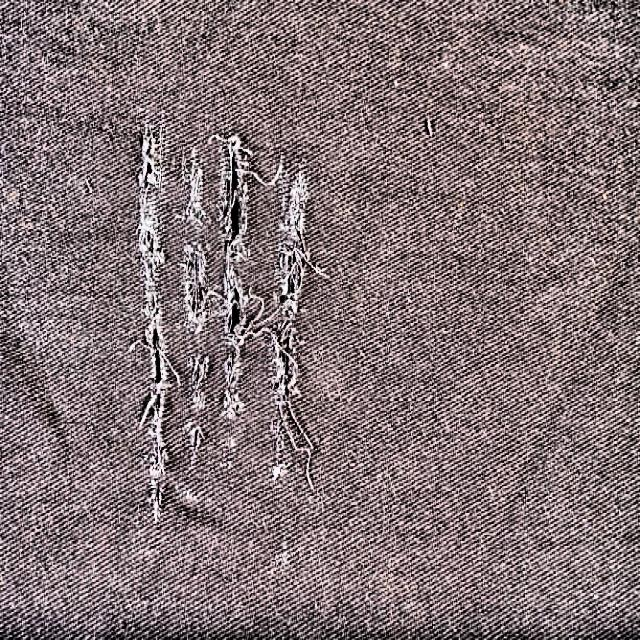Hole: (119, 94, 174, 529), (265, 129, 322, 542), (217, 128, 264, 520), (180, 129, 216, 537)
